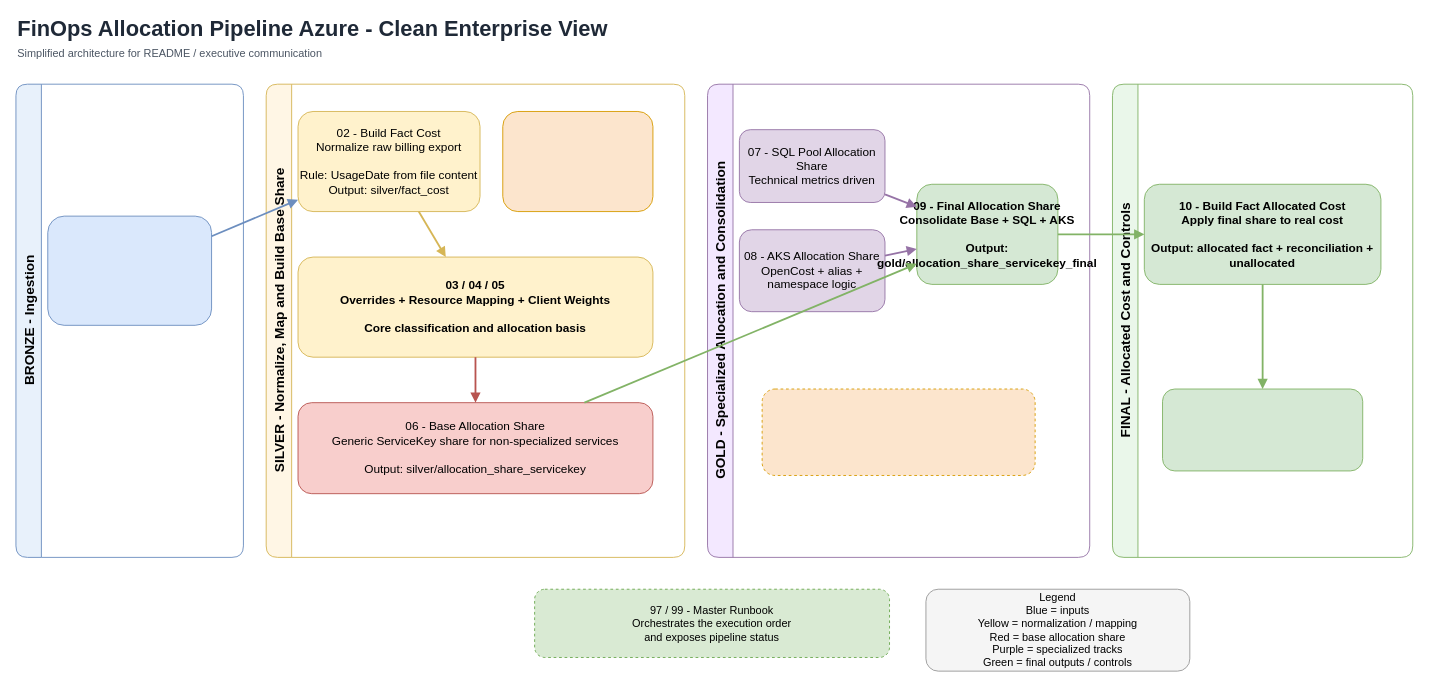
This 1429x687 diagram has some shape labels left out. Each missing label, with the centre of its shape:
"Consumption Layer Power BI / Executive Dashboards Showback / Chargeback ready" belongs at point (1262, 429).
"Date Logic PipelineDate ≠ UsageDate Avoid fixed D-1 assumptions" belongs at point (577, 161).
"Inputs • Inventory Daily • Azure Cost Export • Reference Files" belongs at point (129, 270).
"V1 Hardening • Normalize by ServiceKey • Reconciliation ledger • Rule versioning" belongs at point (898, 431).
